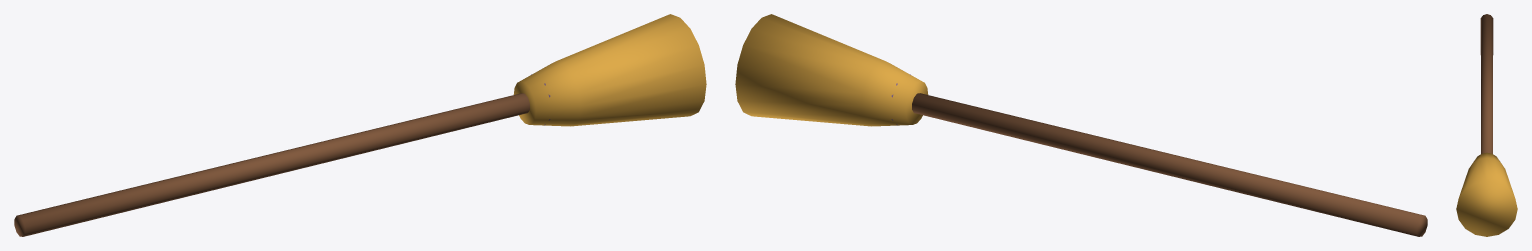
File: broom.glb
3 renders of one model, left to right at view 1: azimuth 30°, elevation 25°; view 2: azimuth 150°, elevation 25°; view 3: azimuth 270°, elevation 25°, orthographic. The views are drawn at different scales.
Parts seen in each view (by area): view 1: LH_broom; view 2: LH_broom; view 3: LH_broom.
Boxes of the visible parts, <box> form: LH_broom: <box>14,14,706,236</box>; LH_broom: <box>735,14,1427,236</box>; LH_broom: <box>1456,14,1517,236</box>.
Size of the model in its own units: 1.02 by 0.14 by 0.14.
